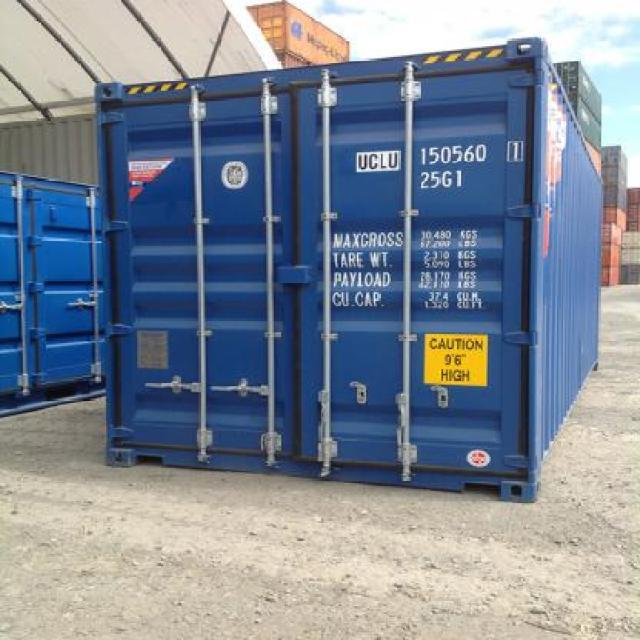ISO: (419, 169, 461, 190)
container_number: (360, 144, 518, 166)
